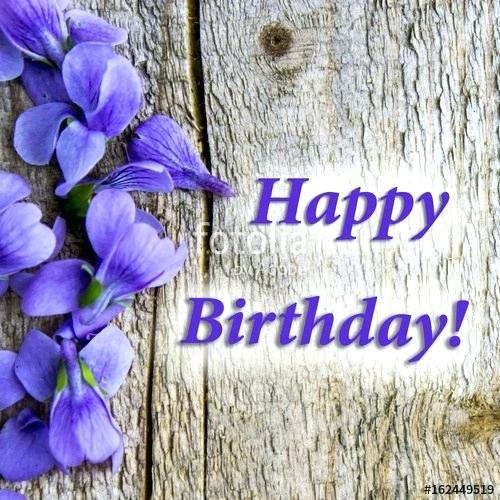violet: (3, 3, 218, 500)
